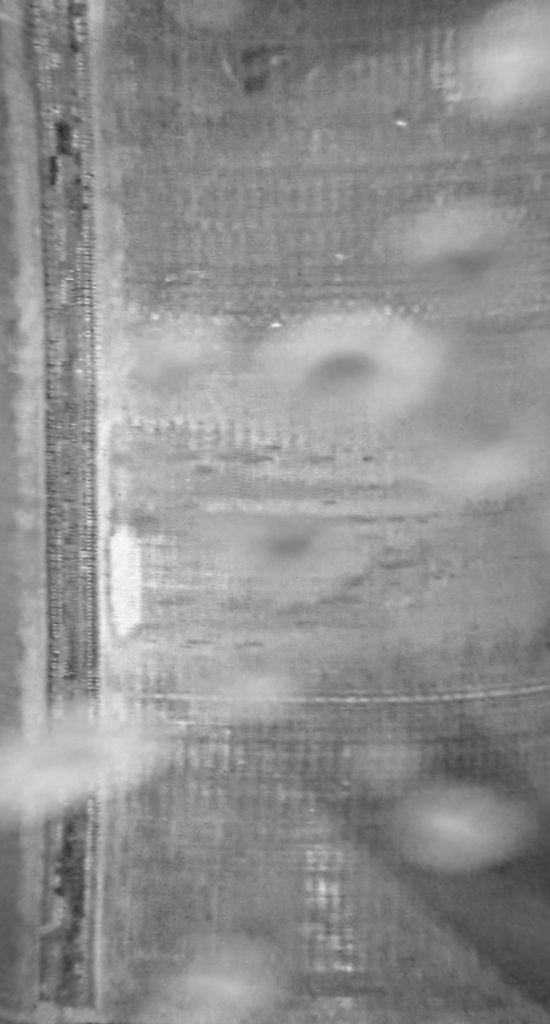splice: (20, 1, 117, 1023)
